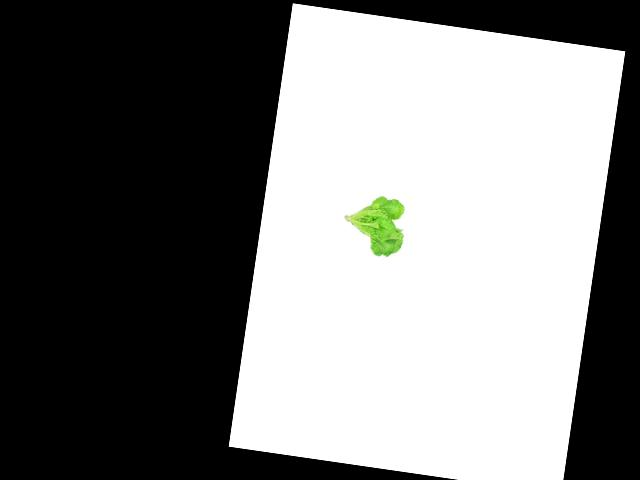lettuce: (337, 189, 412, 262)
